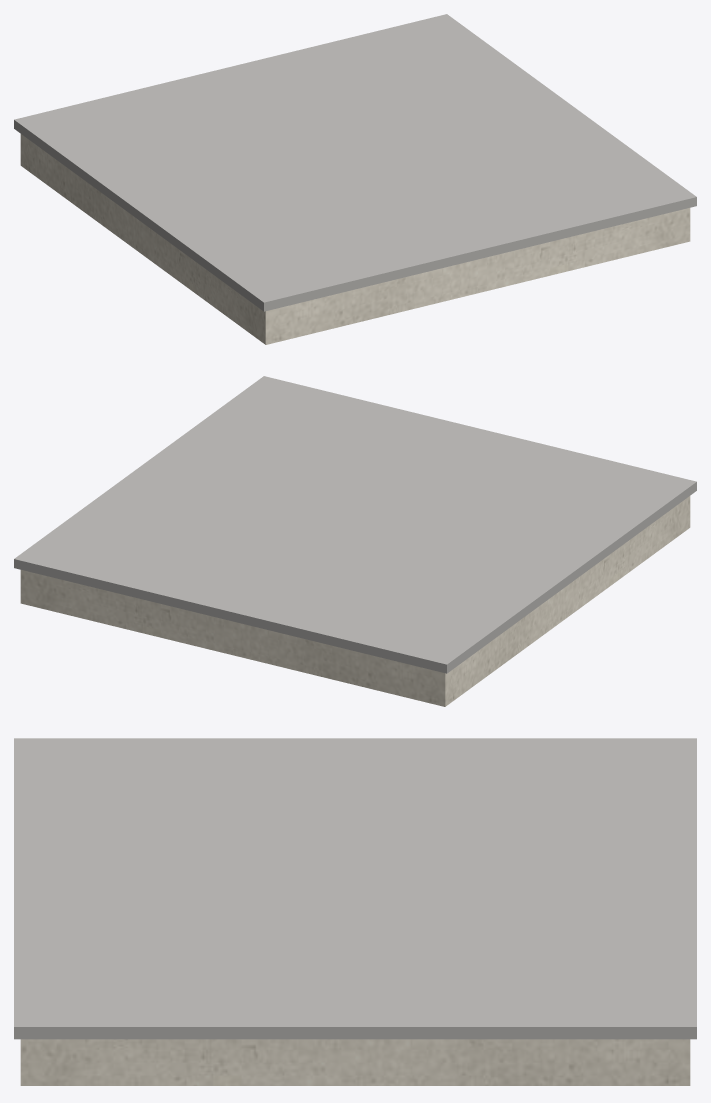
Rendered from roof_tile.glb.
The picture shows the model from 3 angles, top to bottom: view 1: azimuth 30°, elevation 25°; view 2: azimuth 150°, elevation 25°; view 3: azimuth 270°, elevation 25°; orthographic projection. The views are drawn at different scales.
Visible parts, largest first — view 1: roof_tile_roof, roof_tile_plaster; view 2: roof_tile_roof, roof_tile_plaster; view 3: roof_tile_roof, roof_tile_plaster.
Part boxes in pixels (x1,y1,x2,y2): roof_tile_roof: [14, 14, 696, 311]; roof_tile_plaster: [20, 134, 690, 344]; roof_tile_roof: [14, 376, 696, 673]; roof_tile_plaster: [20, 496, 690, 706]; roof_tile_roof: [14, 738, 696, 1039]; roof_tile_plaster: [20, 1039, 690, 1085].
Size of the model in its own units: 2 by 0.2 by 2.
Materials: 2 (1 with a texture image).
